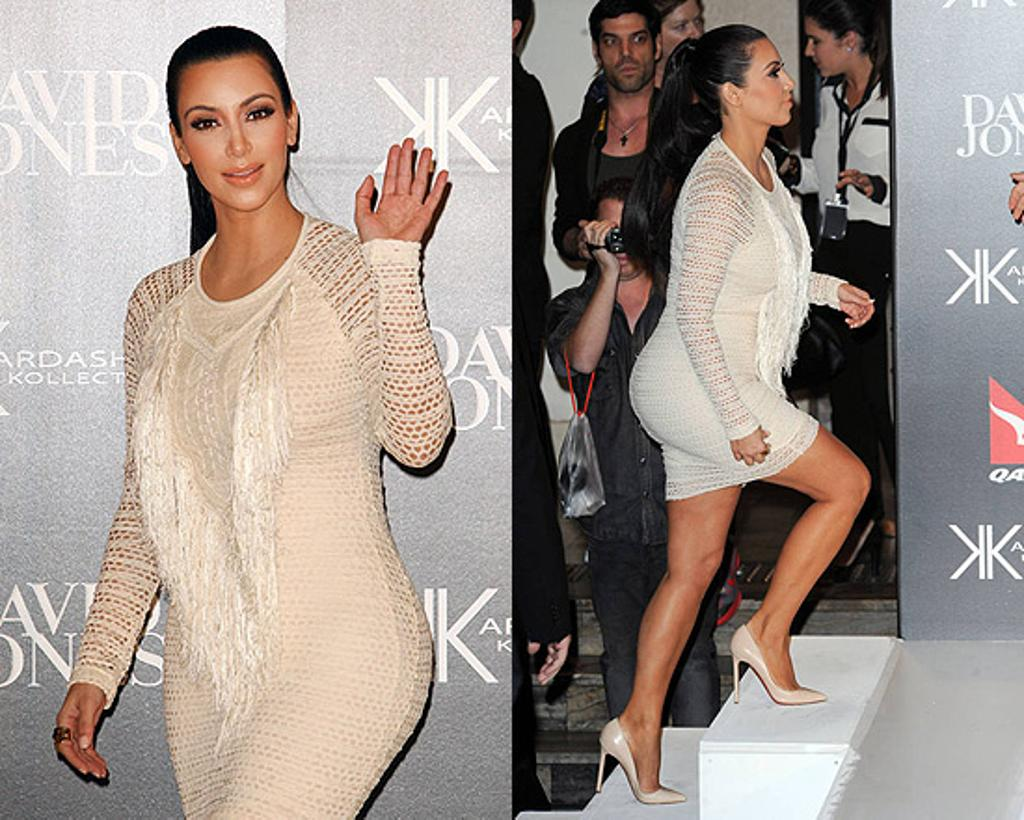face: (181, 73, 286, 210), (738, 48, 793, 123), (599, 18, 654, 90), (596, 207, 645, 273), (662, 6, 707, 66), (807, 22, 847, 76)
